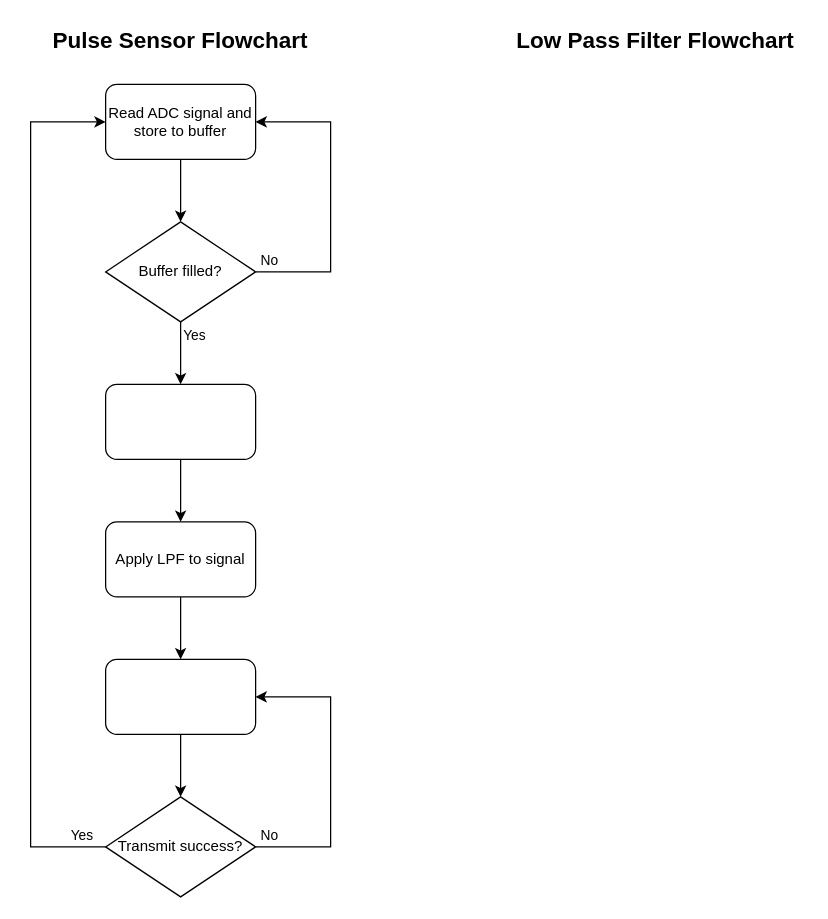
Some shapes in this 828 by 919 pixel diagram are drawn without their labels. The shapes that lost their labels are listed below. From the top down, each one's centre as x and y in pixels, then its label:
At point (180, 421): "Store ADC signal to an array.".
At point (180, 696): "Transmit filtered signal through UART".
